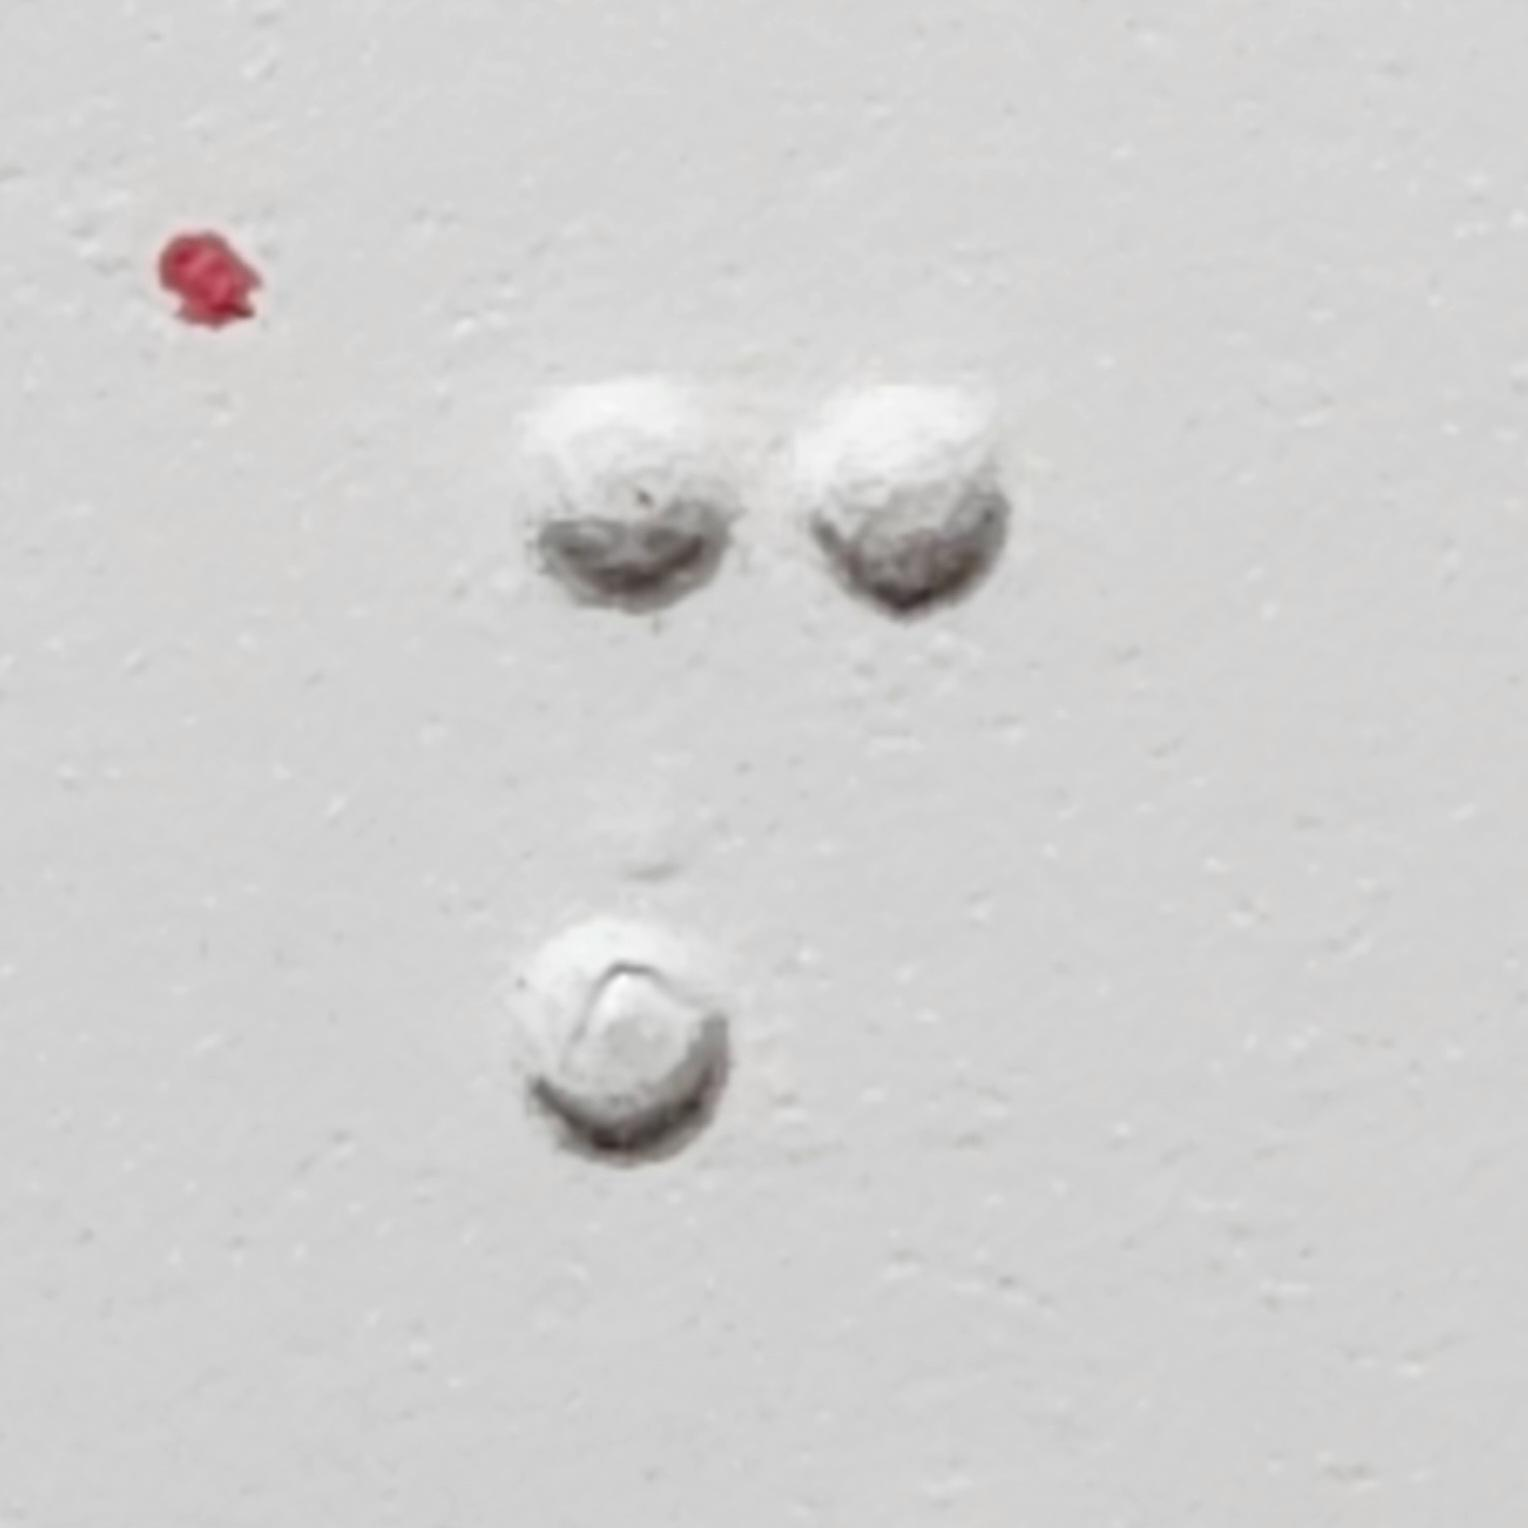letter_m: (523, 374, 1006, 1166)
